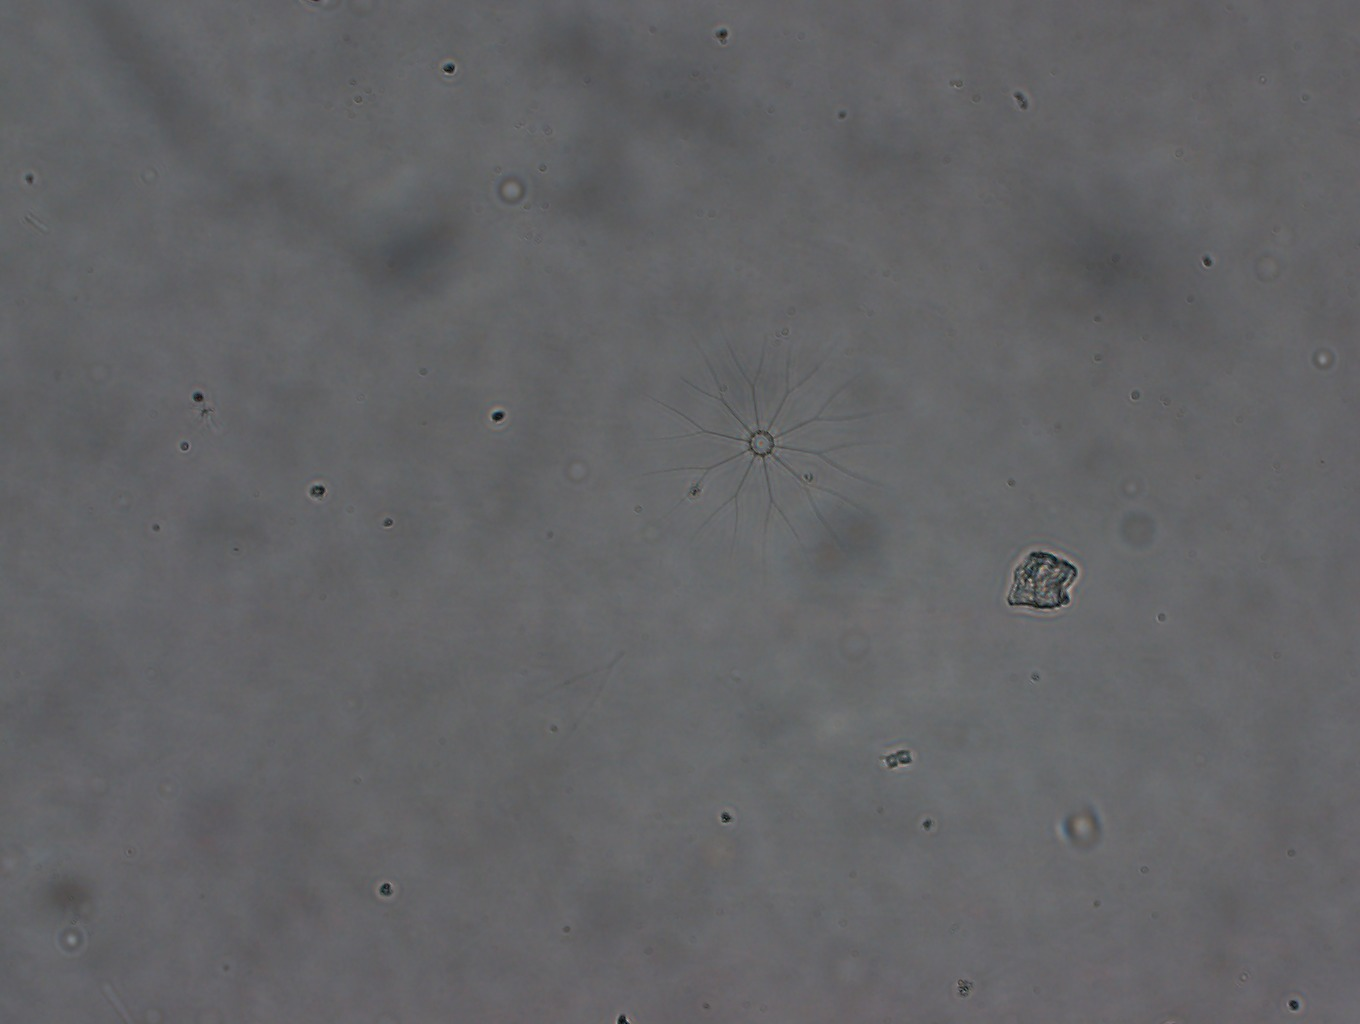bacteriastrum: (635, 333, 882, 565)
